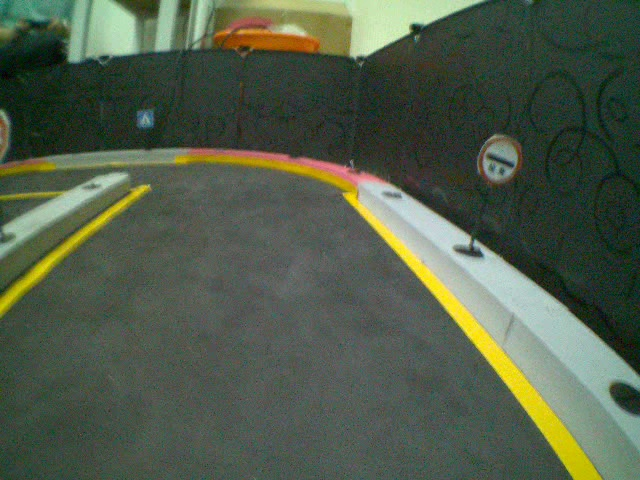Check: (477, 133, 525, 184)
crossing: (135, 110, 154, 129)
